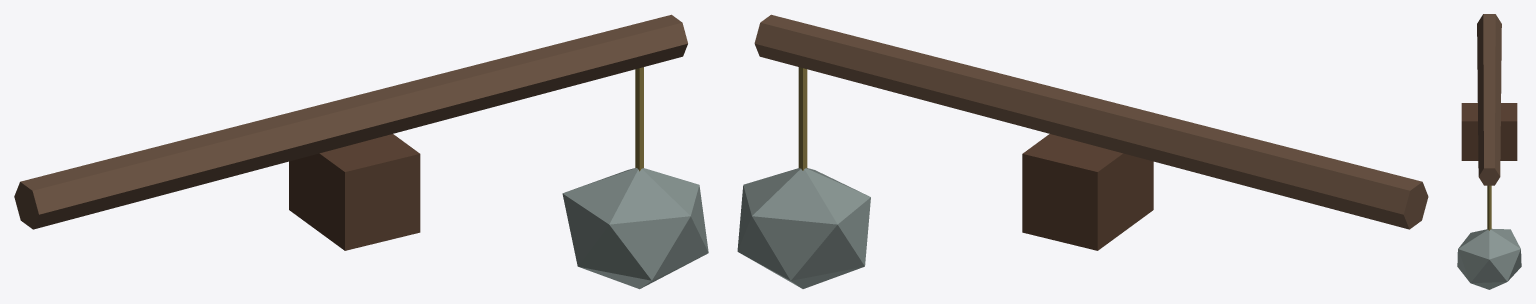
Rendered from kit_press_lever.glb.
The picture shows the model from 3 angles, left to right: view 1: azimuth 30°, elevation 25°; view 2: azimuth 150°, elevation 25°; view 3: azimuth 270°, elevation 25°; orthographic projection. The views are drawn at different scales.
Parts seen in each view (by area): view 1: body, body_nl; view 2: body, body_nl; view 3: body, body_nl.
Part boxes in pixels (bbox=[...]): body: bbox=[14, 14, 708, 289]; body_nl: bbox=[635, 67, 643, 171]; body: bbox=[737, 14, 1428, 288]; body_nl: bbox=[798, 67, 807, 170]; body: bbox=[1457, 14, 1521, 289]; body_nl: bbox=[1487, 185, 1491, 230].
Size of the model in its own units: 1.25 by 0.4646 by 0.2069.
